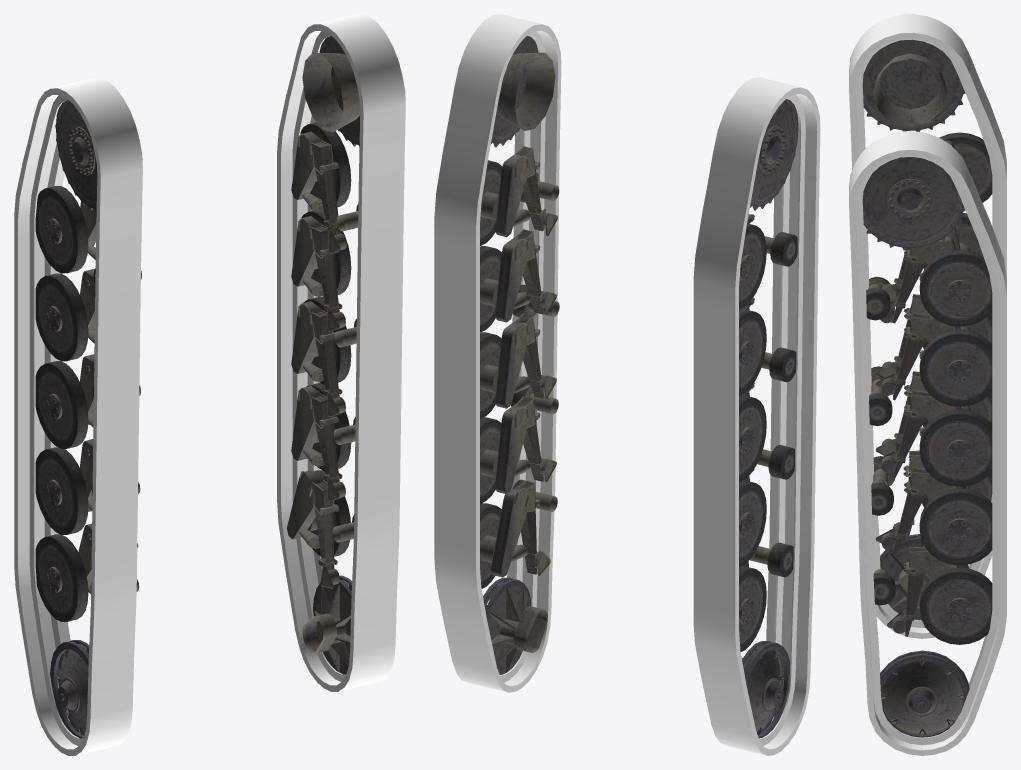
The model's file is Chassis.glb.
3 views of the same model, side by side, from view 1: azimuth 30°, elevation 25°; view 2: azimuth 150°, elevation 25°; view 3: azimuth 270°, elevation 25° (orthographic). The views are drawn at different scales.
Parts seen in each view (by area): view 1: set_3_group_0, set_2_group_0, set_0_group_0, set_1_group_0; view 2: set_3_group_0, set_2_group_0, set_0_group_0, set_1_group_0; view 3: set_0_group_0, set_2_group_0, set_1_group_0, set_3_group_0.
Part boxes in pixels (x1=…): set_3_group_0: x1=14, y1=78, x2=142, y2=755; set_2_group_0: x1=277, y1=14, x2=405, y2=691; set_0_group_0: x1=287, y1=36, x2=360, y2=674; set_1_group_0: x1=35, y1=100, x2=141, y2=738; set_3_group_0: x1=693, y1=77, x2=820, y2=755; set_2_group_0: x1=434, y1=14, x2=561, y2=692; set_0_group_0: x1=480, y1=35, x2=559, y2=674; set_1_group_0: x1=739, y1=99, x2=798, y2=738; set_0_group_0: x1=862, y1=157, x2=992, y2=737; set_2_group_0: x1=849, y1=131, x2=1006, y2=755; set_1_group_0: x1=862, y1=39, x2=992, y2=620; set_3_group_0: x1=849, y1=14, x2=1006, y2=638.
Bounding box in the file's own units: 2.17 × 4.51 × 1.07.
Materials: 4 (2 with a texture image).
